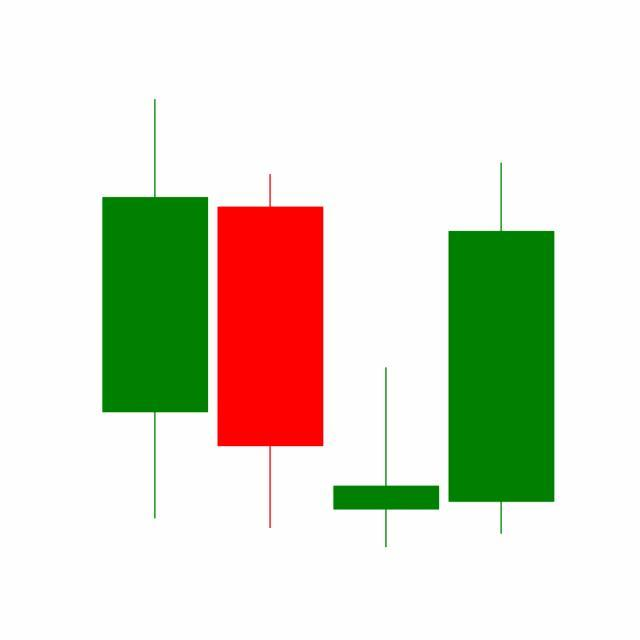Morning Star: (211, 158, 555, 549)
